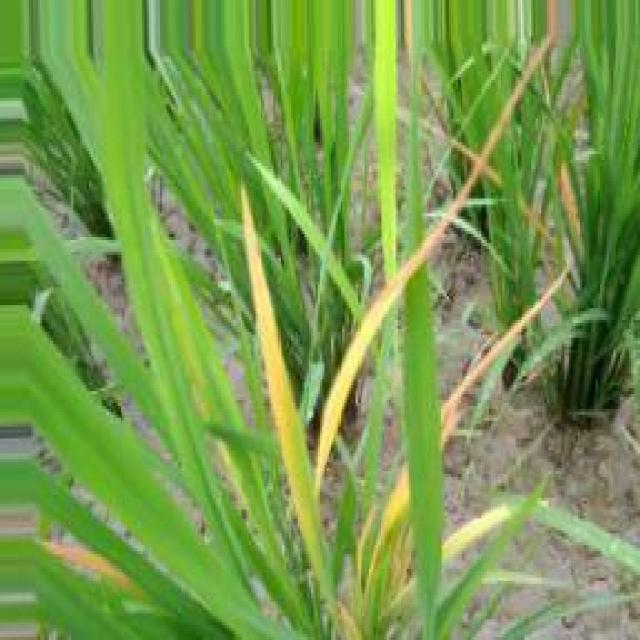Rice Tungro: (315, 42, 547, 488), (243, 187, 334, 616), (440, 268, 567, 446), (442, 503, 514, 563), (42, 540, 132, 588), (374, 468, 410, 556)
